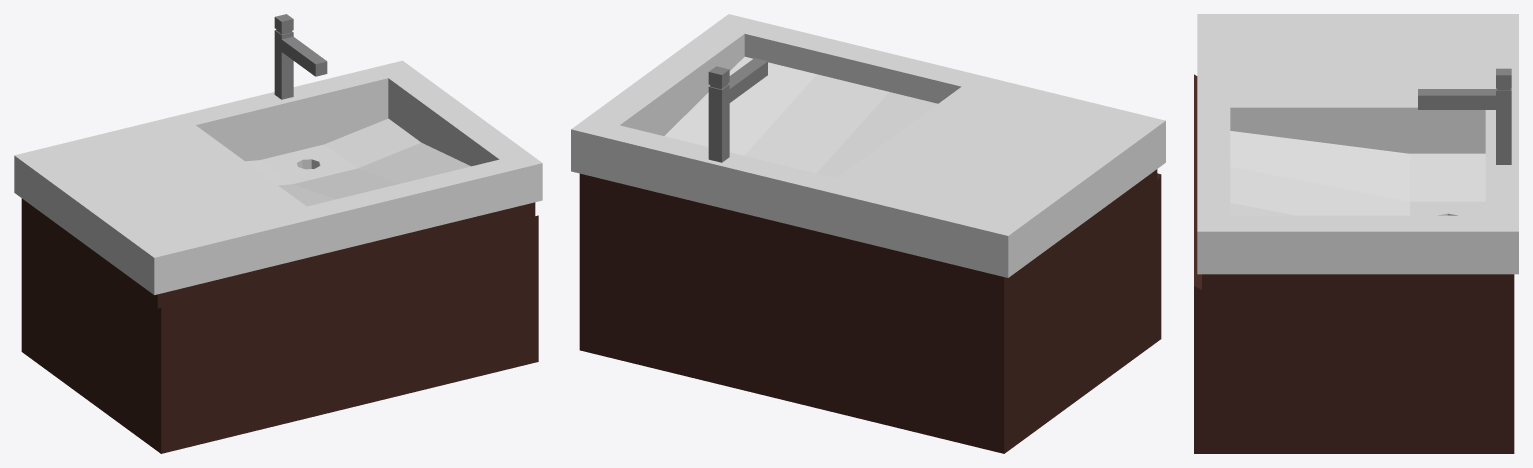
File: Bathroom Sink.glb
The picture shows the model from 3 angles, left to right: view 1: azimuth 30°, elevation 25°; view 2: azimuth 150°, elevation 25°; view 3: azimuth 270°, elevation 25°; orthographic projection. The views are drawn at different scales.
Visible parts, largest first — view 1: Bathroom sink; view 2: Bathroom sink; view 3: Bathroom sink.
Part boxes in pixels (<box>): Bathroom sink: <box>14,14,542,453</box>; Bathroom sink: <box>571,14,1165,453</box>; Bathroom sink: <box>1194,14,1518,453</box>.
Bounding box in the file's own units: 0.709 × 0.4785 × 0.4471.
1 material, 1 textured.
